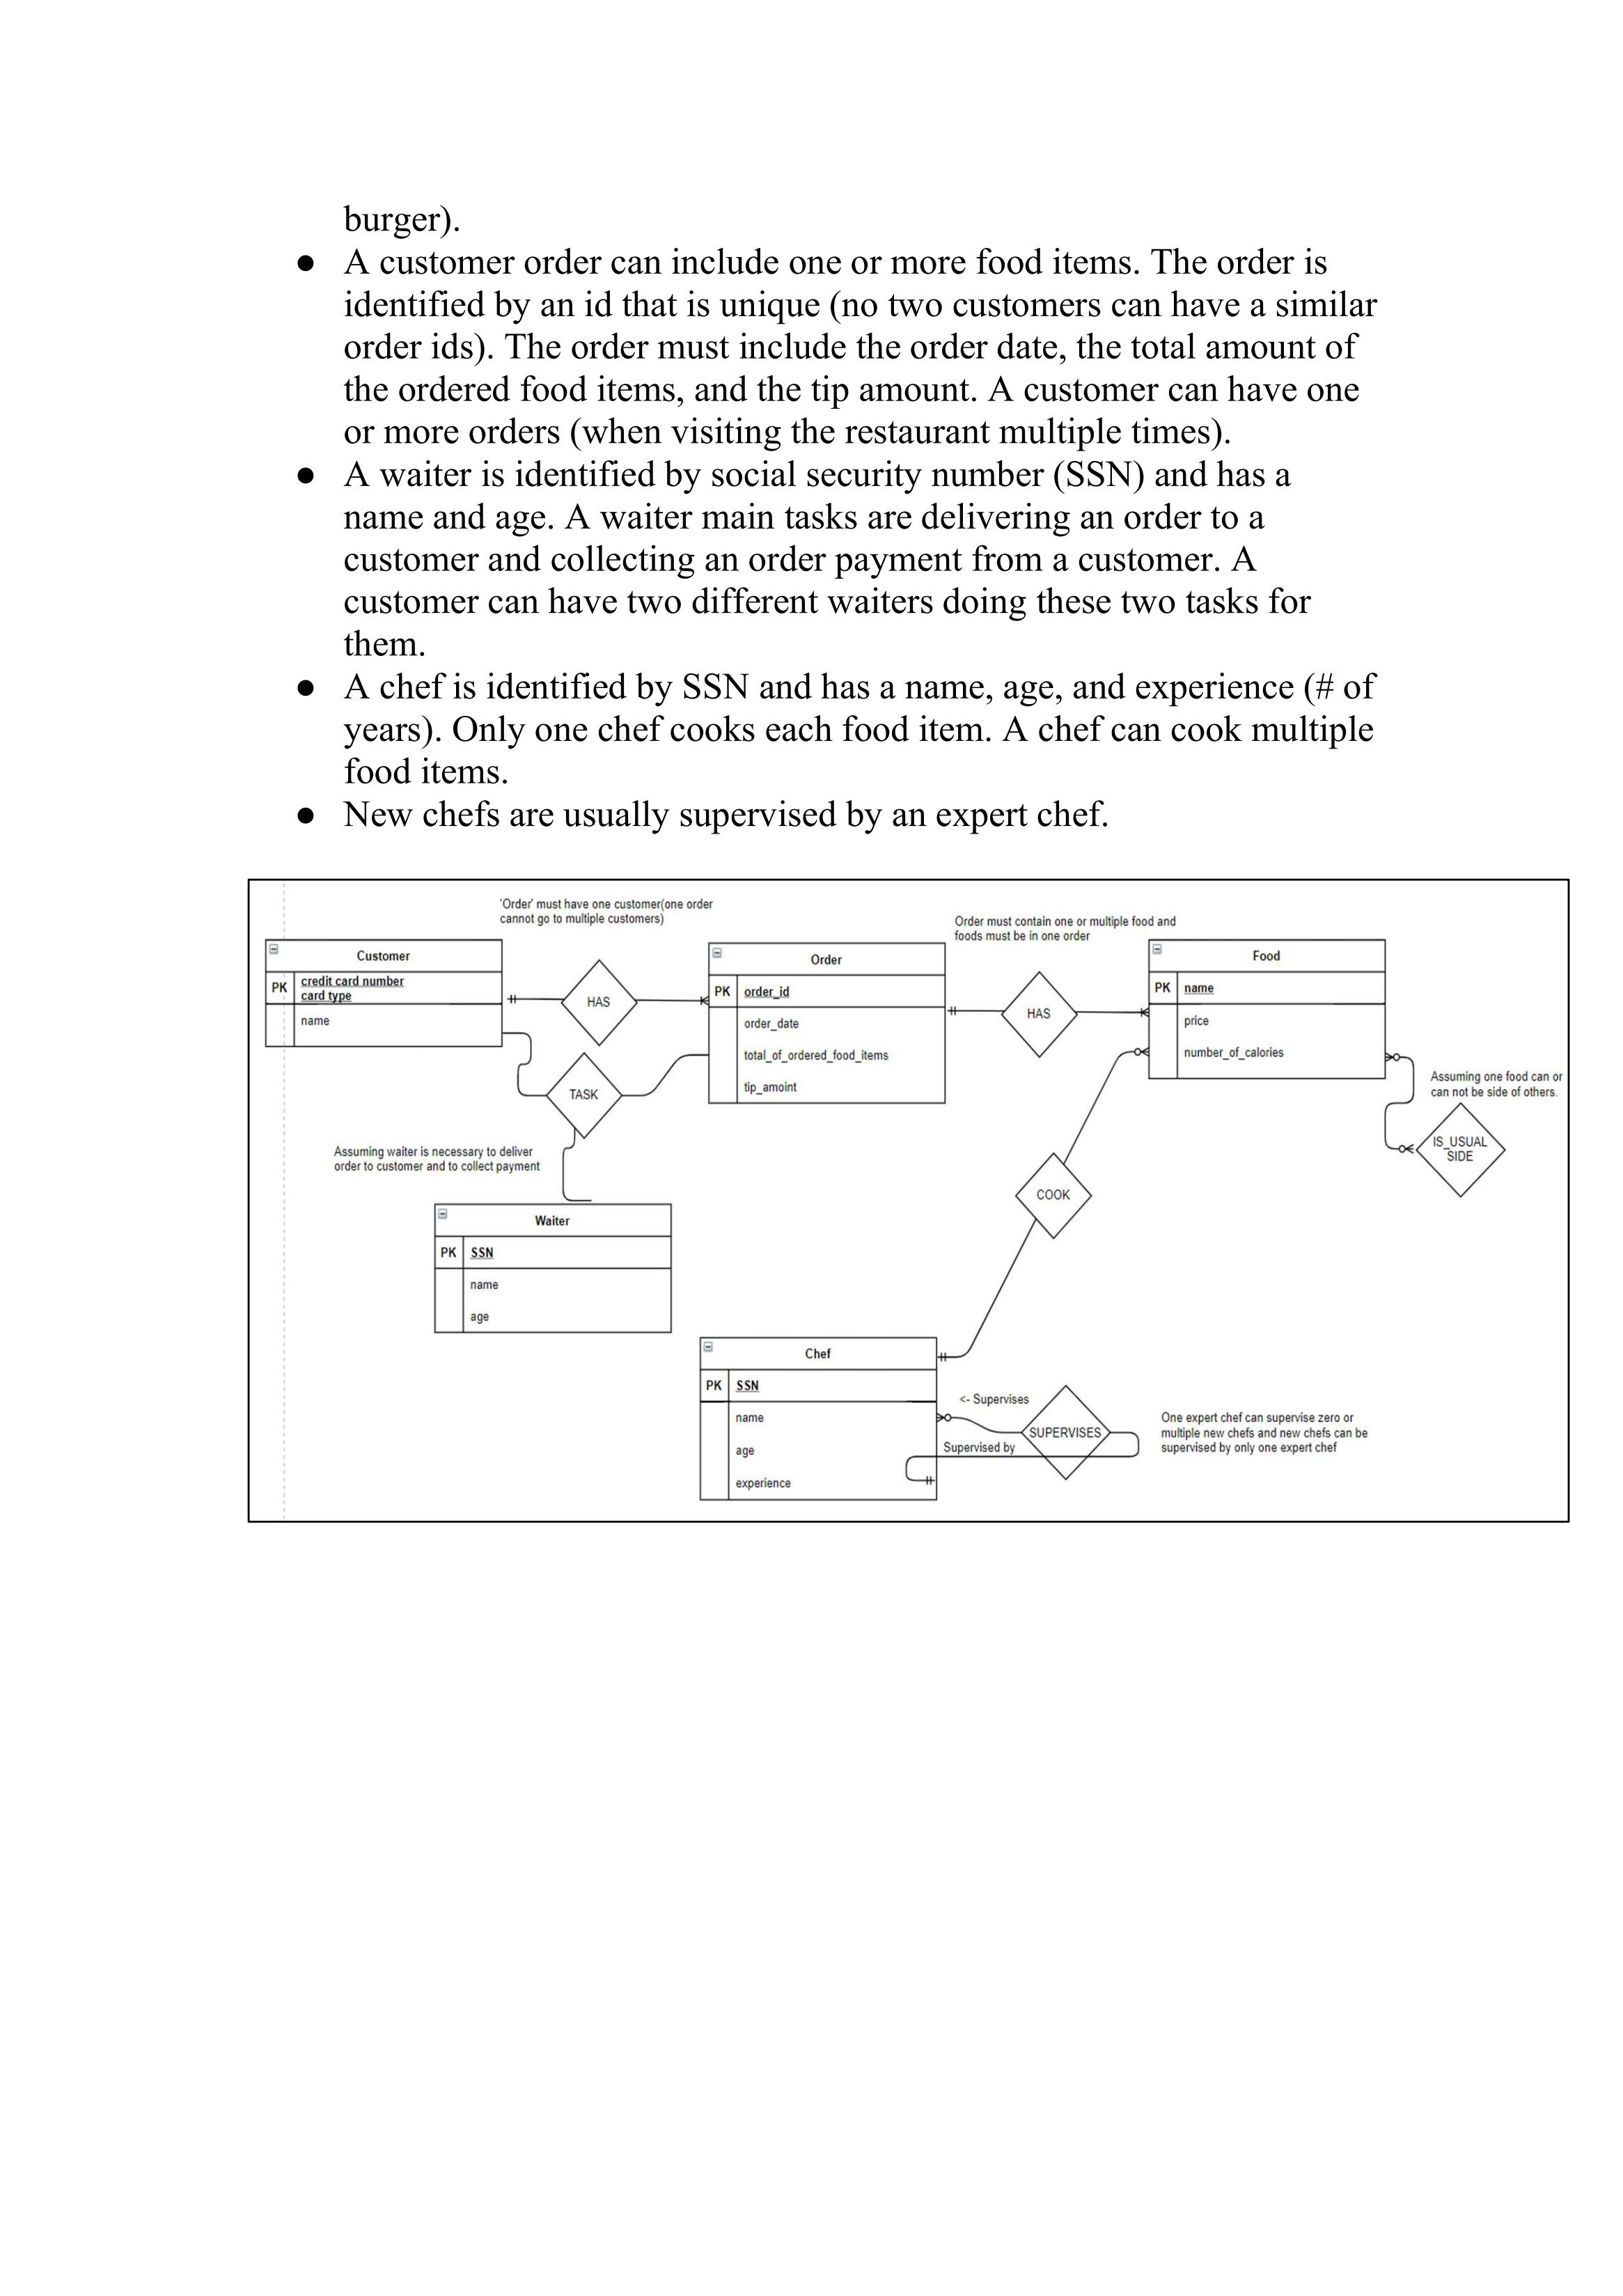Entity: (699, 936, 954, 1114), (1140, 933, 1391, 1089), (423, 1196, 680, 1342), (260, 935, 509, 1054)
Relationship: (696, 1335, 943, 1505), (1022, 1384, 1112, 1483), (1417, 1100, 1505, 1198), (1013, 1149, 1096, 1242), (545, 1051, 625, 1140), (559, 957, 636, 1049), (1001, 970, 1078, 1061)
